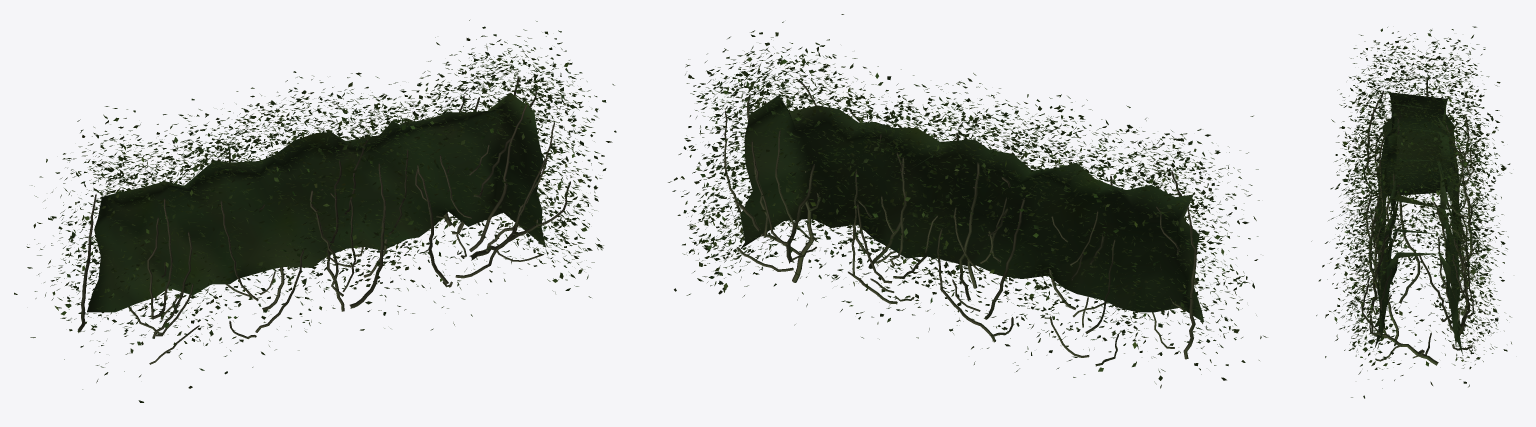
File: SM_Tree_hedge_1.glb
3 views of the same model, side by side, from view 1: azimuth 30°, elevation 25°; view 2: azimuth 150°, elevation 25°; view 3: azimuth 270°, elevation 25° (orthographic). The views are drawn at different scales.
Visible parts, largest first — view 1: SM_Tree_hedge_1; view 2: SM_Tree_hedge_1; view 3: SM_Tree_hedge_1.
Part boxes in pixels (x1,y1,x2,y2): SM_Tree_hedge_1: (14,20,616,402); SM_Tree_hedge_1: (668,14,1267,388); SM_Tree_hedge_1: (1311,26,1511,398).
Size of the model in its own units: 4.9 by 2.48 by 1.98.
